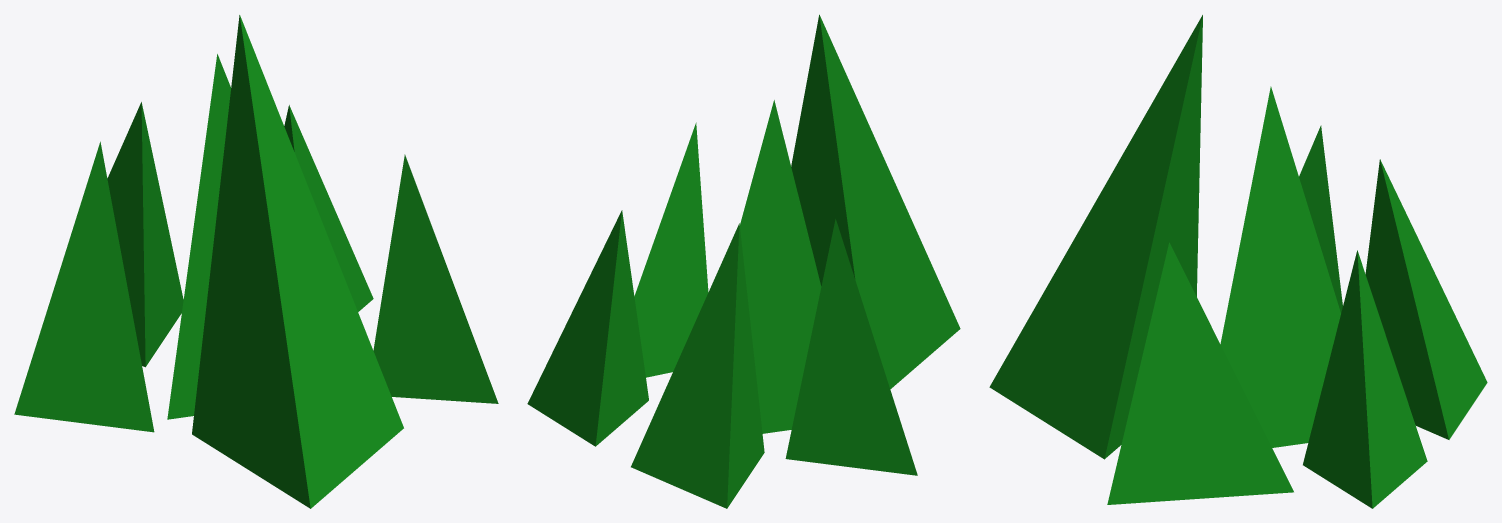
Rendered from grassTwo.fbx.
3 views of the same model, side by side, from view 1: azimuth 30°, elevation 25°; view 2: azimuth 150°, elevation 25°; view 3: azimuth 270°, elevation 25° (orthographic). The views are drawn at different scales.
Visible parts, largest first — view 1: Cone; view 2: Cone; view 3: Cone.
Part boxes in pixels (x1,y1,x2,y2): Cone: (14,15,498,508); Cone: (527,14,960,508); Cone: (989,15,1487,508).
Bounding box in the file's own units: 119 × 119 × 137.
